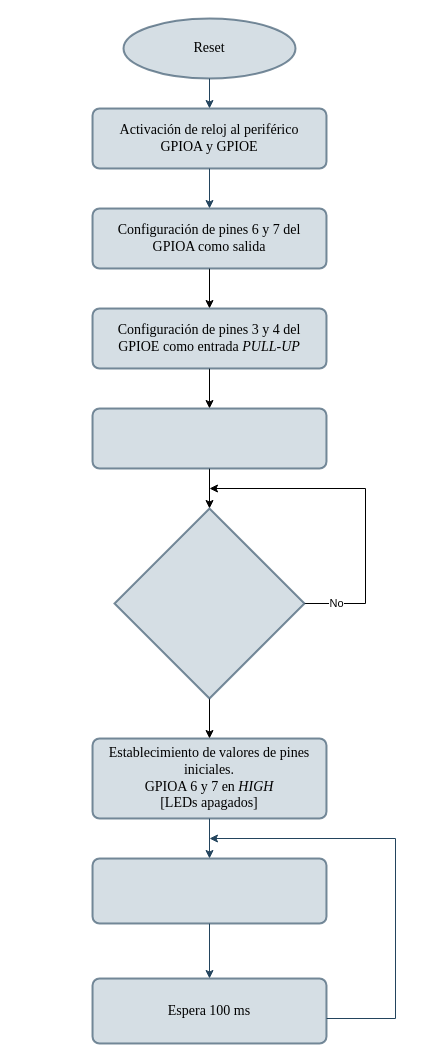
Some shapes in this 421 by 1061 pixel diagram are drawn without their labels. Each missing label, with the centre of its shape:
"Establecer GPIOA 6 en estado HIGH" goes at (209,438).
"GPIOA 6 = GPIOE 3 GPIOA 7 = GPIOE 4" goes at (209,890).
"¿GPIOE 4 está en estado LOW? (¿Se ha presionado el botón del PIN GPIOE 4?)" goes at (209,603).
